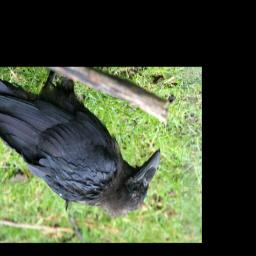Crow: (0, 68, 163, 217)
